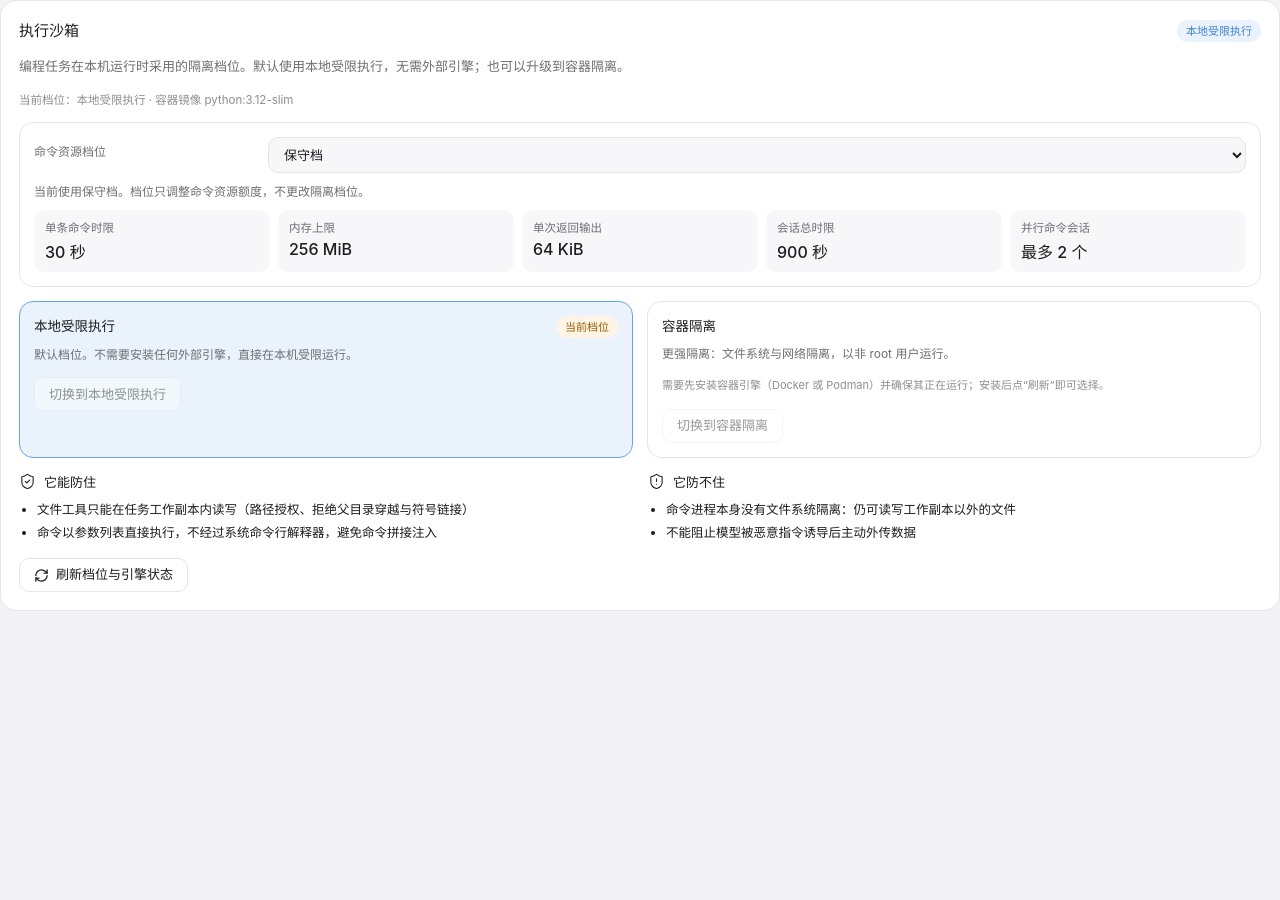
Test case: 显示后端额度并持久化切换到编程档
Expected: the text "256 MiB" is shown, [289, 239, 352, 259]
Select "编程档" in the dropdown labelled "命令资源档位" at point(757, 155), box [268, 137, 1246, 173]
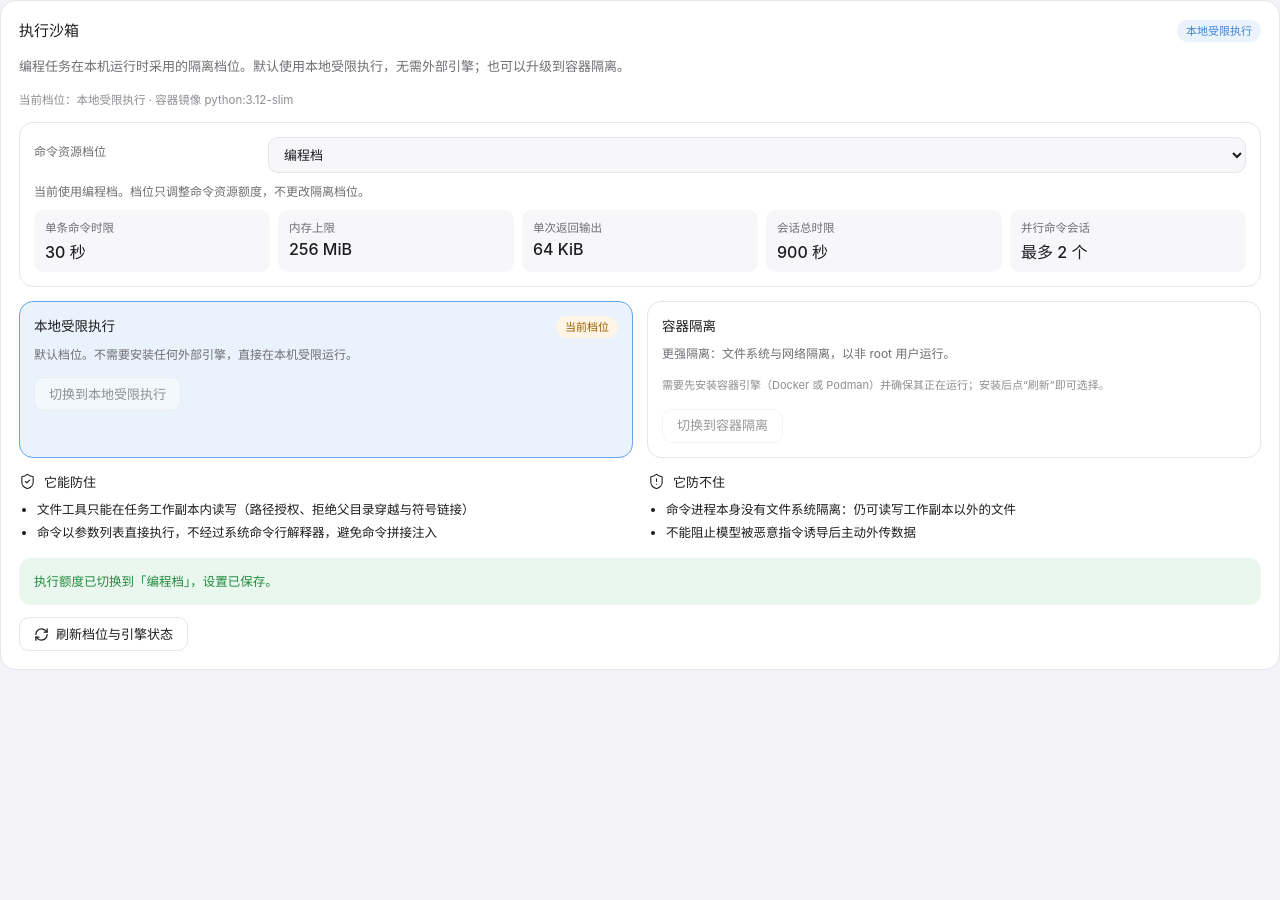
Expected: the text "执行额度已切换到「编程档」，设置已保存。" is shown, [19, 558, 1261, 605]
